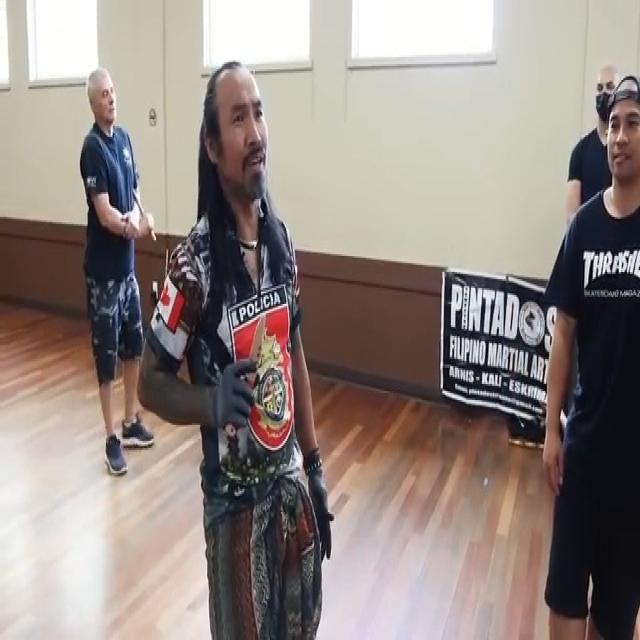Sharp-Object: (228, 312, 267, 433)
